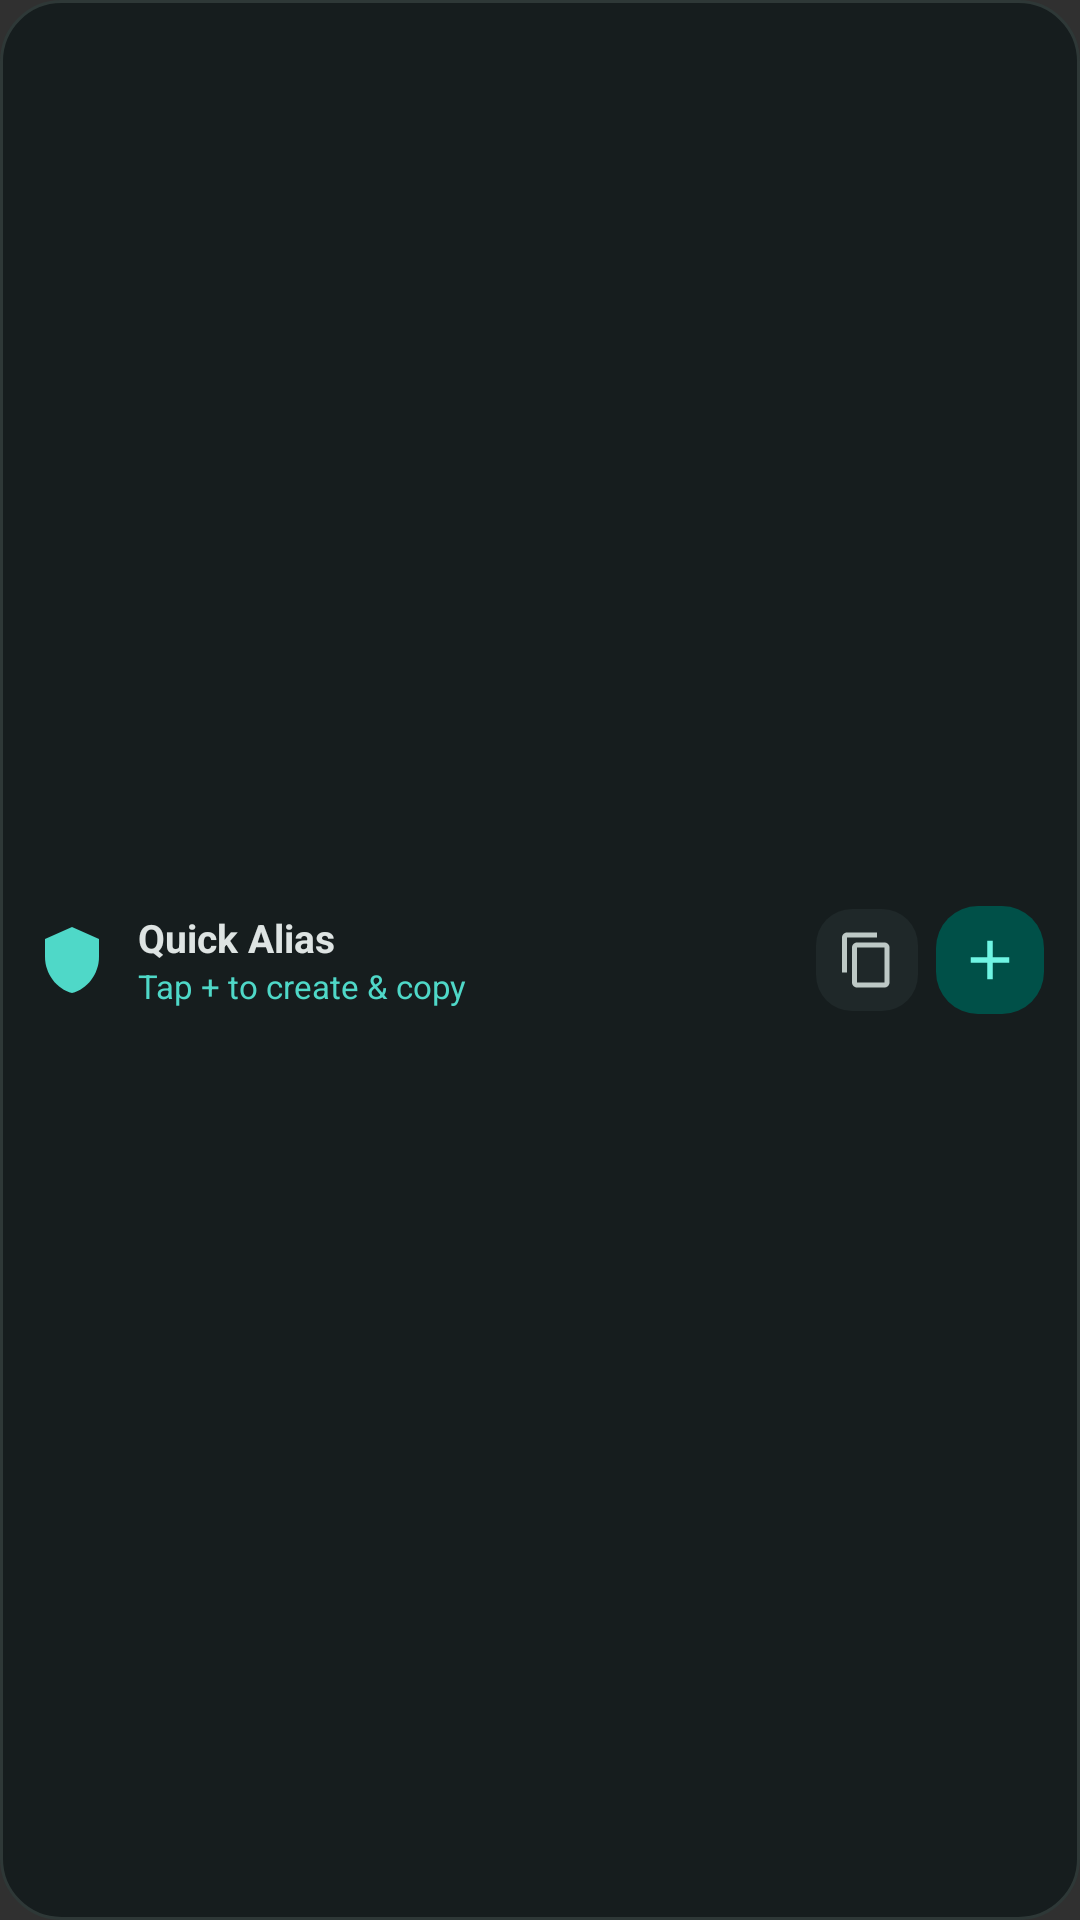

Named icons in this screenshot (1080px×1920px) and their centers, (x,y):
Create Alias: (990,960)
